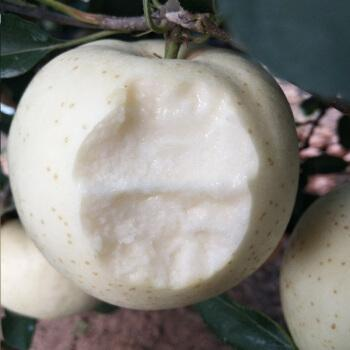apple: (6, 38, 303, 309)
